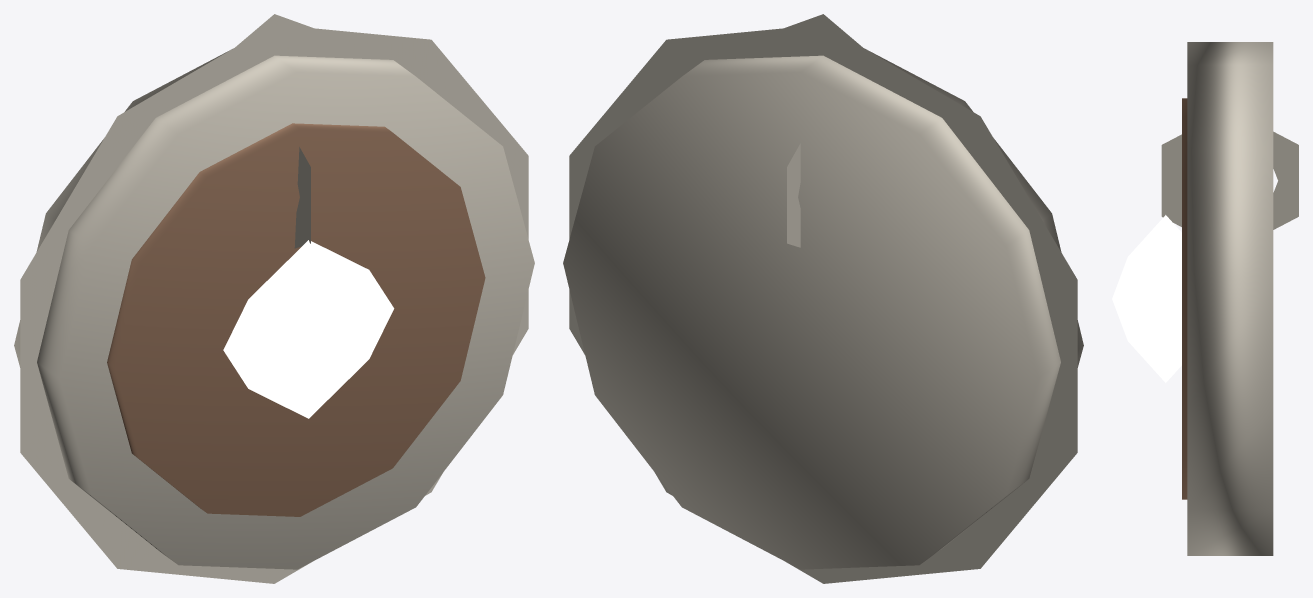
File: charm_primordial.glb
3 views of the same model, side by side, from view 1: azimuth 30°, elevation 25°; view 2: azimuth 150°, elevation 25°; view 3: azimuth 270°, elevation 25° (orthographic). The views are drawn at different scales.
Parts seen in each view (by area): view 1: charm_primordial; view 2: charm_primordial; view 3: charm_primordial.
Part boxes in pixels (bbox=[...]): charm_primordial: bbox=[14, 14, 534, 583]; charm_primordial: bbox=[563, 14, 1083, 583]; charm_primordial: bbox=[1112, 42, 1298, 555].
Bounding box in the file's own units: 0.1027 × 0.11 × 0.0348.
